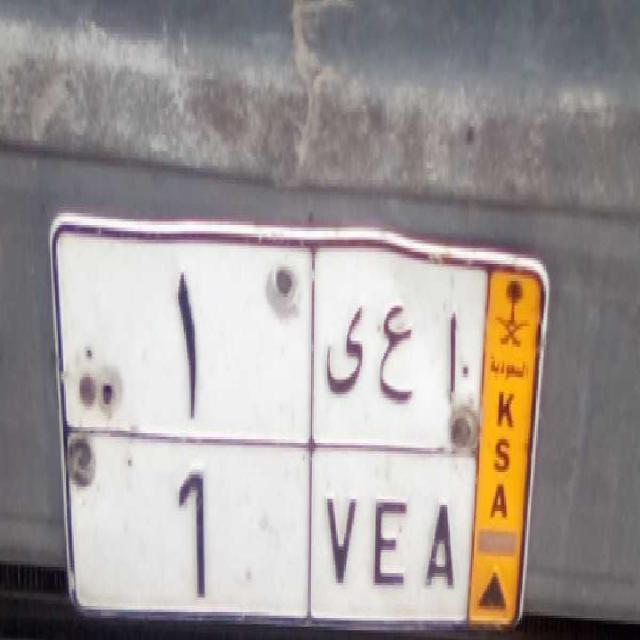license_plate: (64, 432, 476, 640)
